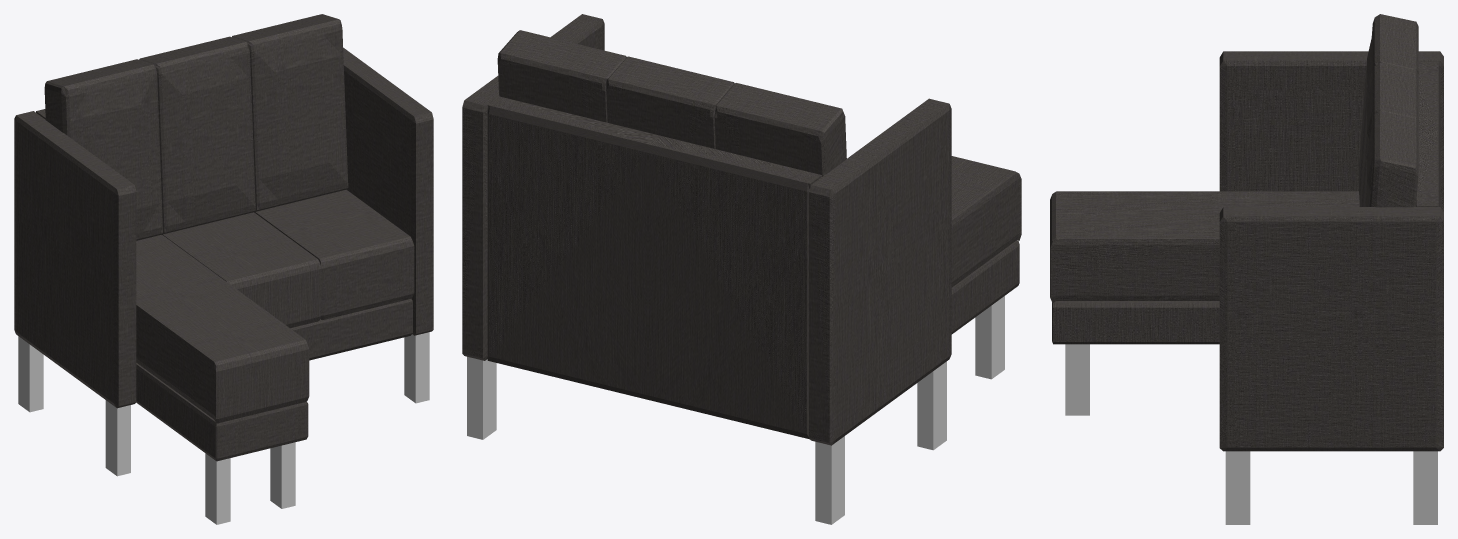
The model's file is sh-bs0-couch2.glb.
The picture shows the model from 3 angles, left to right: view 1: azimuth 30°, elevation 25°; view 2: azimuth 150°, elevation 25°; view 3: azimuth 270°, elevation 25°; orthographic projection. The views are drawn at different scales.
Visible parts, largest first — view 1: couch_Plane.002; view 2: couch_Plane.002; view 3: couch_Plane.002.
Part boxes in pixels (left/top/right/bottom): couch_Plane.002: left=14, top=14, right=433, bottom=524; couch_Plane.002: left=462, top=14, right=1021, bottom=524; couch_Plane.002: left=1050, top=14, right=1443, bottom=524.
Size of the model in its own units: 1 by 1 by 1.
Materials: 2 (1 with a texture image).
